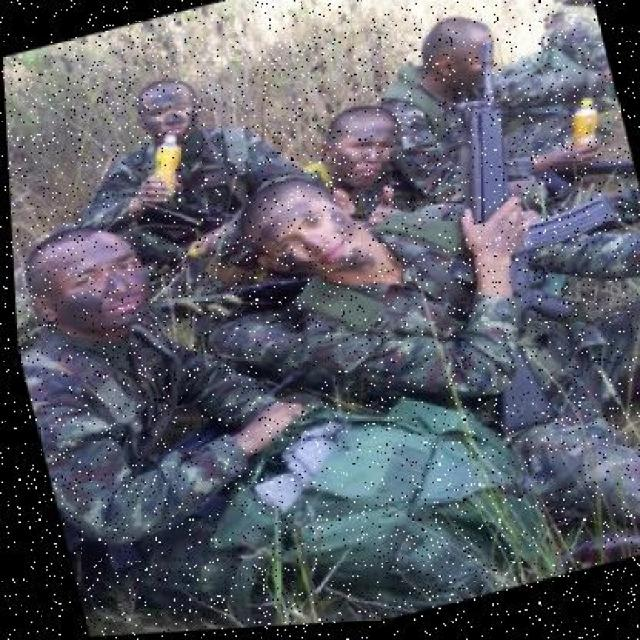MIL_Pax: (221, 120, 640, 551), (9, 211, 212, 560), (329, 0, 549, 226), (58, 46, 264, 242), (250, 86, 424, 237), (508, 0, 618, 140)
